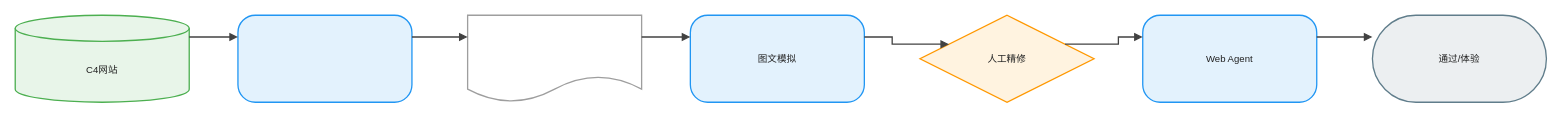
The diagram is 1563 pixels wide and 118 high, and some of its shapes have lost their labels. The centre of each missing label's shape, as x and y in pixels:
100网站: the point at 324,58
意图/测试: the point at 554,58
